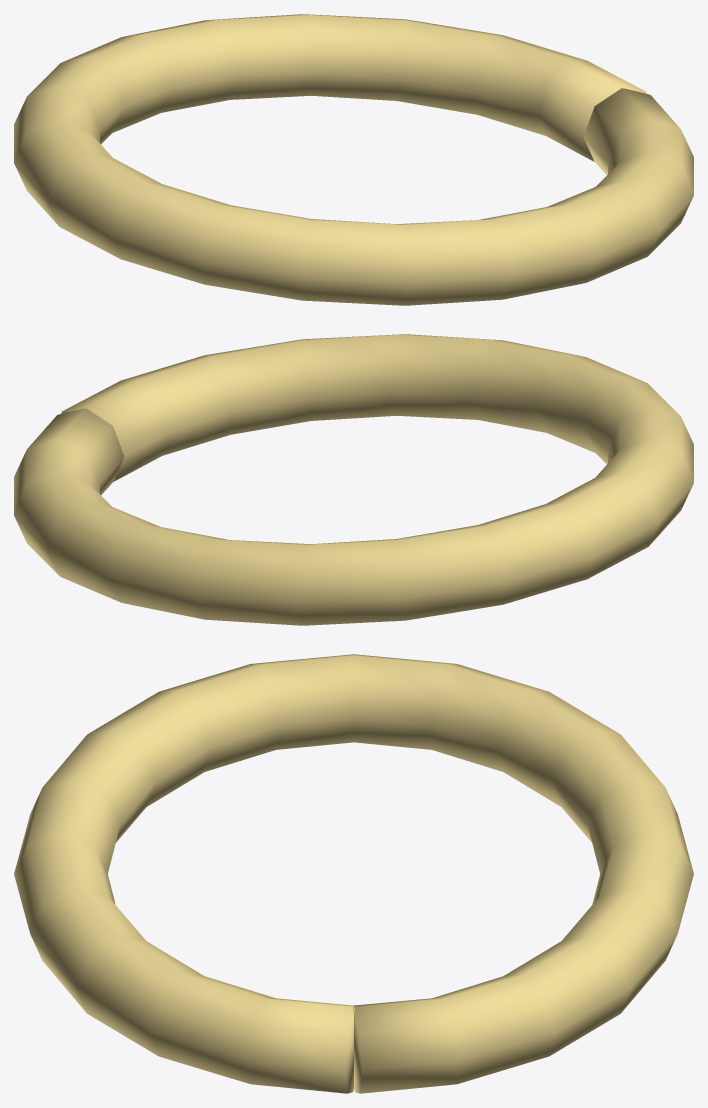
File: trim.glb
3 views of the same model, one above another, from view 1: azimuth 30°, elevation 25°; view 2: azimuth 150°, elevation 25°; view 3: azimuth 270°, elevation 25° (orthographic). The views are drawn at different scales.
Parts seen in each view (by area): view 1: Trim_collar; view 2: Trim_collar; view 3: Trim_collar.
Part boxes in pixels (<box>): Trim_collar: <box>14,14,693,305</box>; Trim_collar: <box>14,334,693,625</box>; Trim_collar: <box>14,654,693,1093</box>.
Bounding box in the file's own units: 0.1938 × 0.044 × 0.174.
